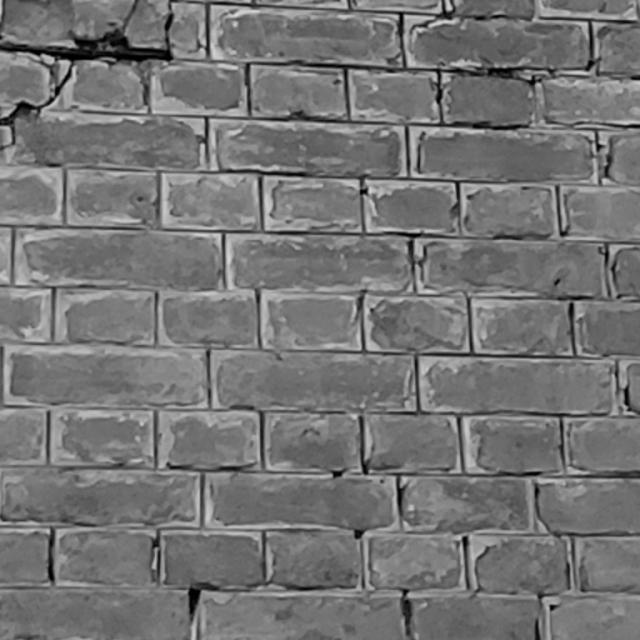crack: (1, 1, 176, 149)
